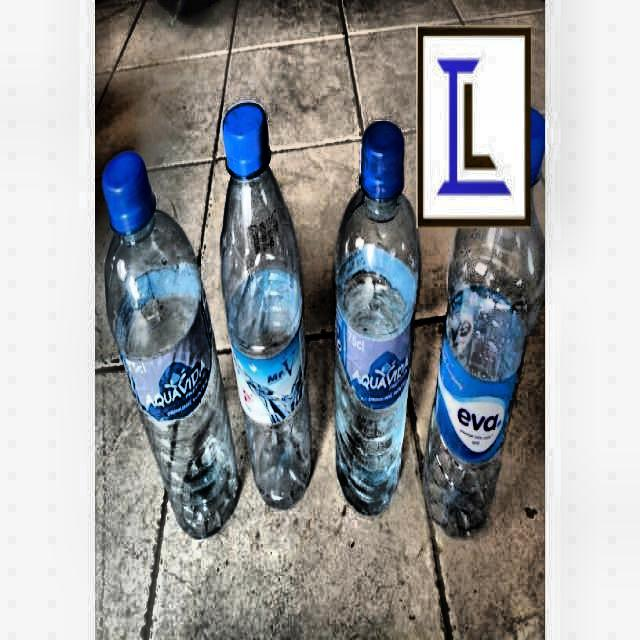plastic bottle: (102, 152, 239, 540), (424, 209, 545, 538), (221, 102, 313, 508), (336, 121, 421, 516), (345, 273, 407, 340)
